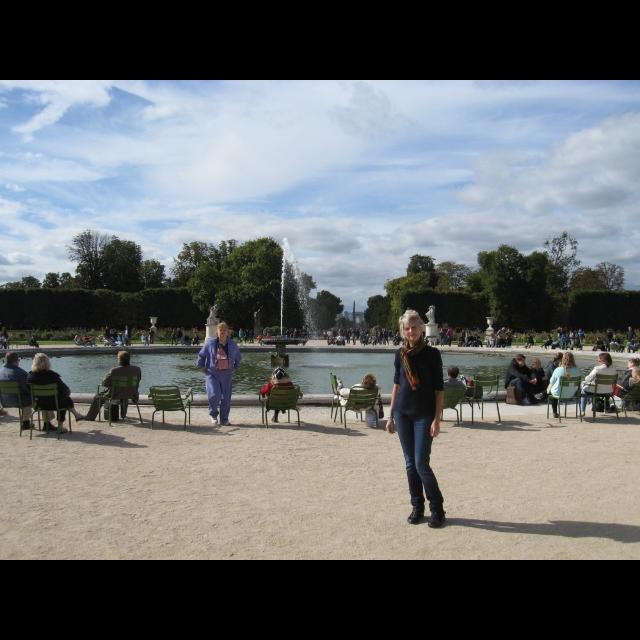head: (400, 313, 424, 341), (34, 352, 50, 370), (34, 354, 48, 370), (118, 352, 132, 366), (218, 324, 230, 340), (446, 366, 459, 380), (364, 376, 378, 388), (563, 352, 575, 366), (274, 366, 286, 379), (598, 354, 610, 366), (627, 359, 639, 371), (516, 354, 526, 368), (532, 358, 542, 368), (556, 353, 564, 363), (629, 326, 633, 332), (2, 328, 6, 332), (126, 327, 130, 331), (144, 334, 148, 338), (177, 328, 181, 332), (441, 328, 445, 332), (448, 328, 452, 332), (502, 328, 506, 332), (528, 334, 532, 338), (547, 335, 551, 339), (597, 338, 601, 342), (612, 338, 616, 342), (106, 326, 110, 329), (240, 328, 243, 332), (250, 328, 253, 332), (245, 331, 248, 334), (4, 336, 6, 340), (120, 333, 122, 337), (150, 330, 154, 332), (196, 334, 198, 338), (294, 330, 298, 332), (354, 328, 356, 332), (384, 330, 388, 332), (476, 335, 478, 339), (580, 329, 582, 333), (174, 331, 176, 334), (187, 334, 190, 336), (230, 328, 233, 330), (270, 334, 272, 336), (348, 332, 350, 334), (358, 330, 360, 332)
person: (384, 308, 448, 532), (24, 352, 90, 434), (196, 320, 244, 426), (1, 351, 62, 432), (81, 350, 143, 424), (575, 352, 619, 420), (258, 366, 304, 424), (403, 364, 463, 408), (547, 351, 583, 419), (332, 371, 382, 415), (504, 354, 544, 406), (546, 352, 582, 402), (527, 357, 553, 401), (626, 326, 638, 354), (0, 326, 12, 350), (540, 334, 554, 352), (445, 326, 455, 348), (496, 328, 506, 350), (524, 334, 536, 351), (438, 328, 448, 348), (577, 328, 587, 348), (592, 337, 604, 353), (608, 339, 620, 353), (104, 326, 112, 346), (124, 326, 132, 346), (141, 332, 151, 348), (176, 327, 184, 347), (238, 328, 246, 348), (292, 327, 300, 347), (116, 332, 125, 348), (170, 328, 178, 346), (248, 327, 256, 345), (345, 328, 353, 346), (383, 329, 391, 347), (228, 326, 235, 346), (474, 334, 484, 348), (183, 332, 191, 348), (0, 333, 8, 348), (192, 334, 202, 346), (243, 328, 250, 344), (351, 328, 357, 346), (150, 328, 156, 344), (266, 332, 272, 344), (356, 329, 362, 341)
